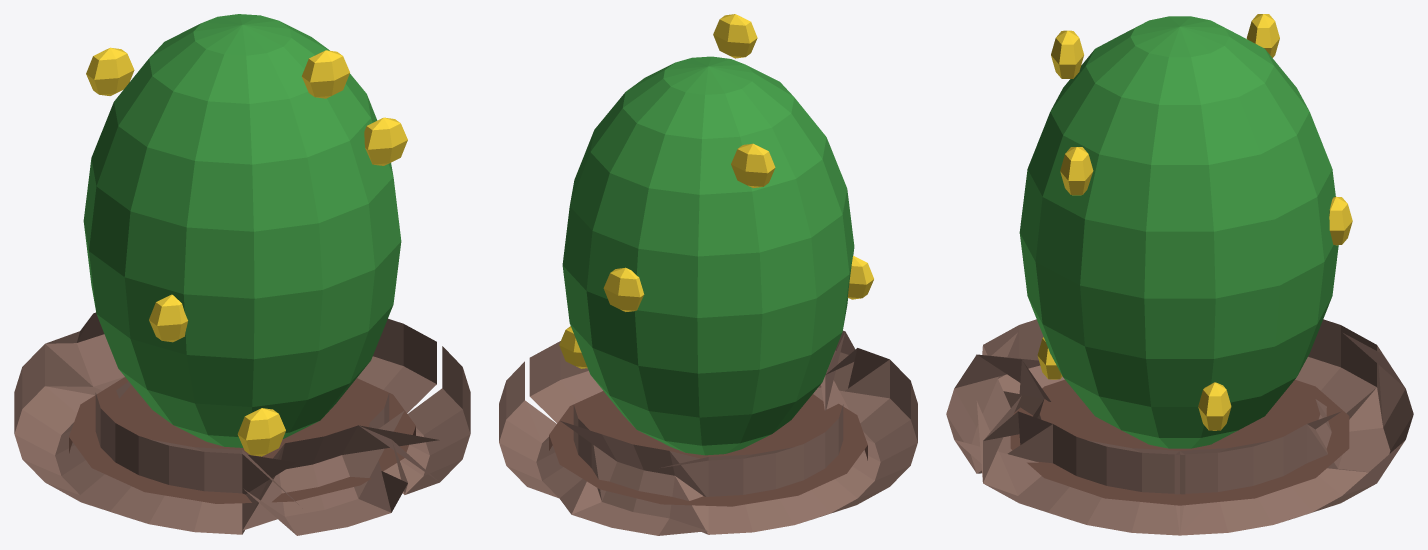
File: drakagg.glb
3 views of the same model, side by side, from view 1: azimuth 30°, elevation 25°; view 2: azimuth 150°, elevation 25°; view 3: azimuth 270°, elevation 25° (orthographic). The views are drawn at different scales.
Visible parts, largest first — view 1: drakagg; view 2: drakagg; view 3: drakagg.
Boxes of the visible parts, box(x1,y1,x2,y2) form: drakagg: box(14, 14, 470, 535); drakagg: box(499, 14, 917, 535); drakagg: box(946, 14, 1413, 535).
Size of the model in its own units: 0.6808 by 0.7352 by 0.7.
